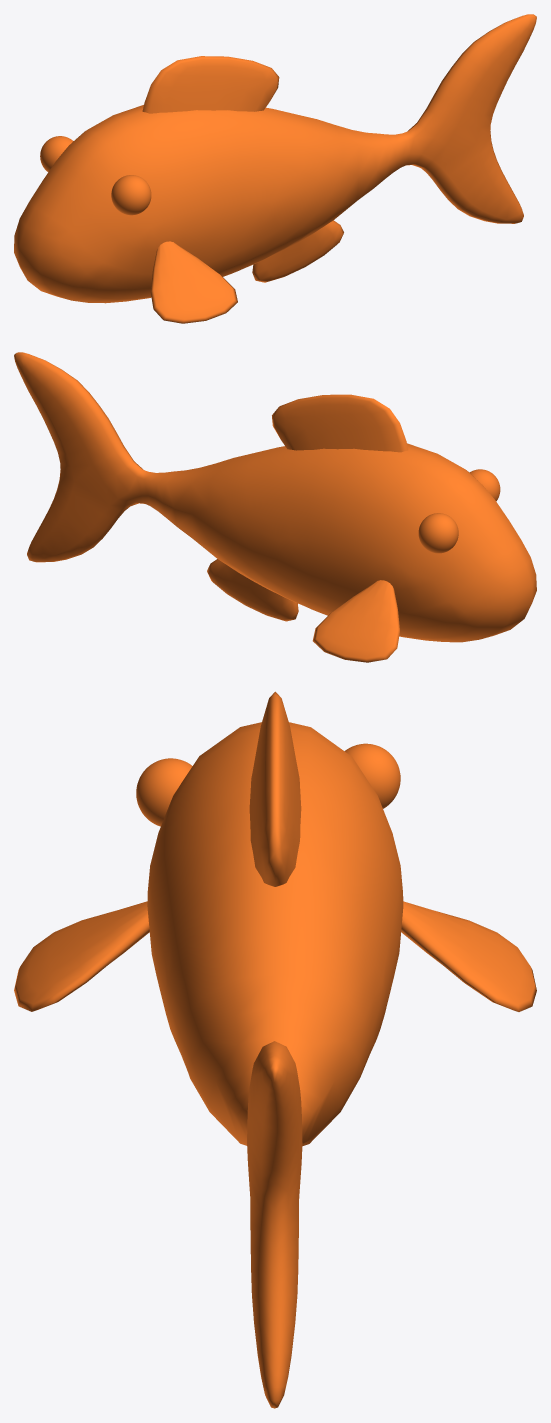
The model's file is poisson2.glb.
3 renders of one model, top to bottom at view 1: azimuth 30°, elevation 25°; view 2: azimuth 150°, elevation 25°; view 3: azimuth 270°, elevation 25°, orthographic. The views are drawn at different scales.
Parts seen in each view (by area): view 1: mesh_id27; view 2: mesh_id27; view 3: mesh_id27.
Boxes of the visible parts, x1=… form: mesh_id27: x1=14, y1=14, x2=536, y2=323; mesh_id27: x1=14, y1=352, x2=536, y2=662; mesh_id27: x1=14, y1=691, x2=536, y2=1408.
Size of the model in its own units: 0.4389 by 0.1993 by 0.2222.
1 material, 1 textured.
